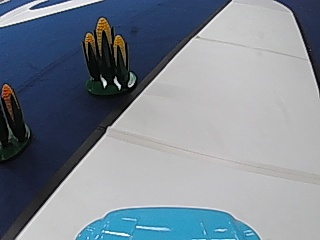corn: (79, 12, 138, 97), (0, 81, 32, 157)
